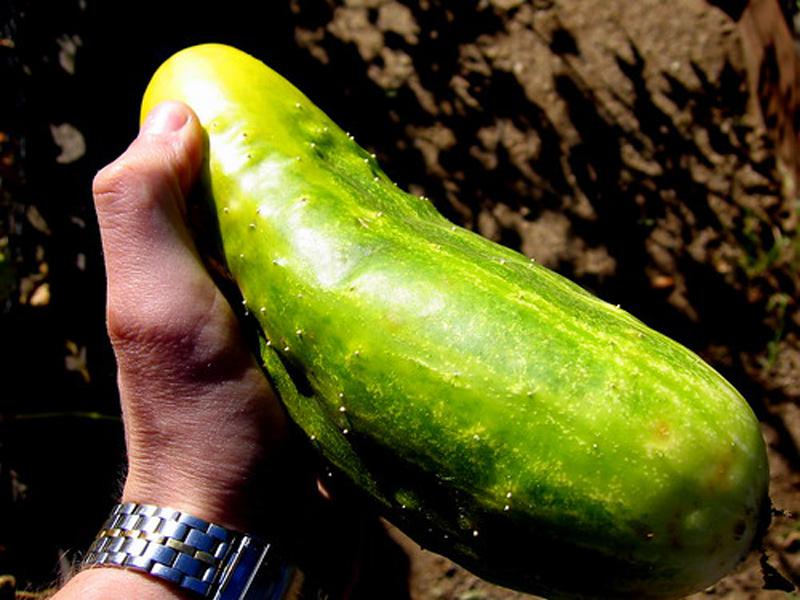Cucumber: (139, 44, 771, 600)
